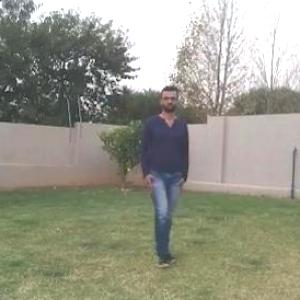follow: (143, 91, 184, 250)
